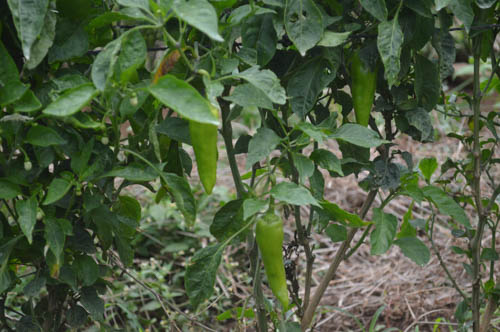ChiliPepper: (260, 216, 293, 308), (188, 112, 218, 195), (351, 53, 377, 134)
